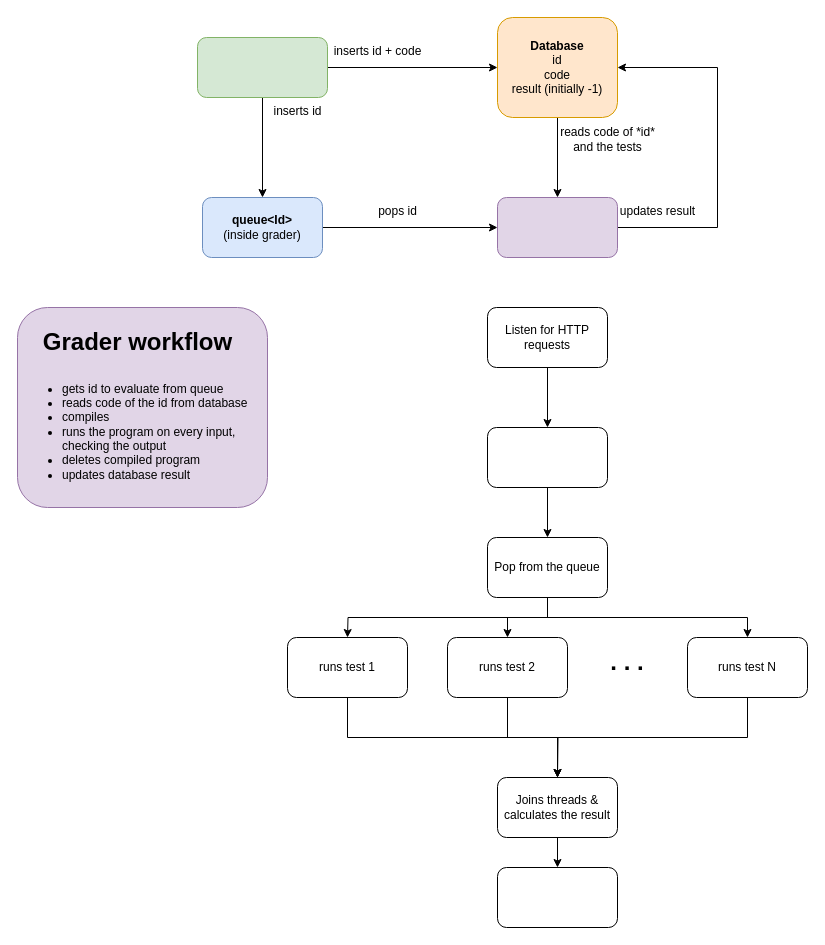
The diagram is 825 pixels wide and 945 high, and some of its shapes have lost their labels. Each missing label, with the box of its shape:
AlgoNetAPI: (196, 36, 328, 98)
grader: (496, 196, 618, 258)
Queue: (486, 426, 608, 488)
Updates the database: (496, 866, 618, 928)
